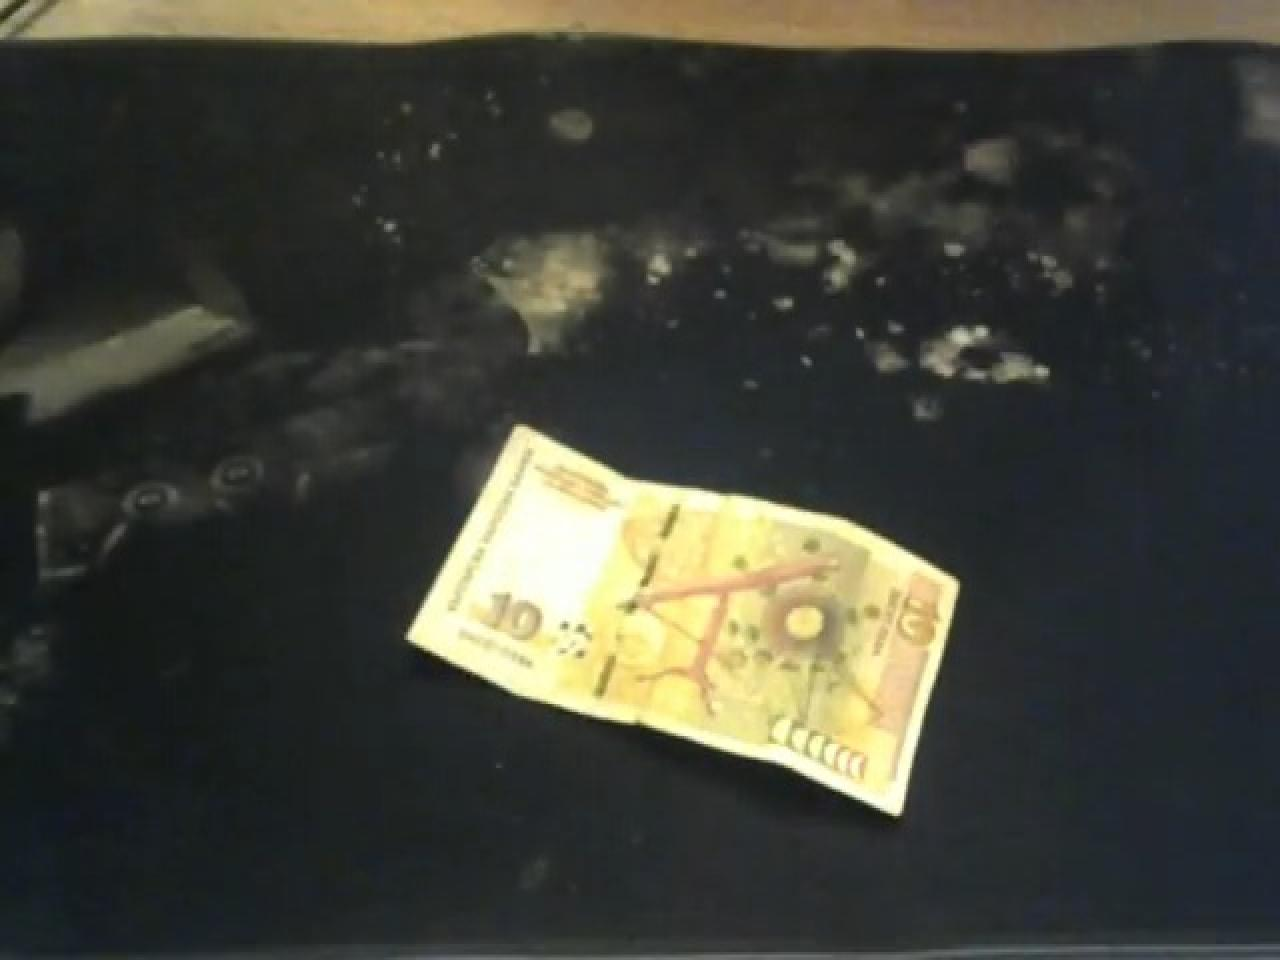10leva: (408, 427, 959, 821)
